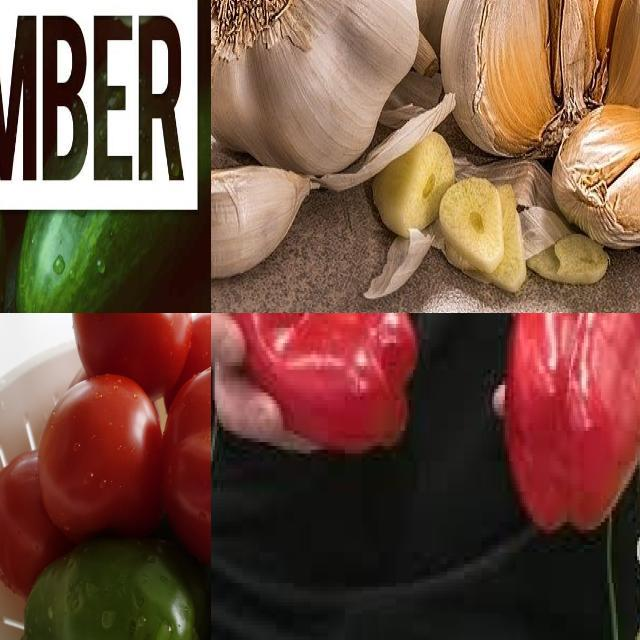bell_pepper: (215, 314, 422, 459), (9, 536, 212, 640)
garlic: (441, 1, 640, 275), (212, 1, 415, 185), (212, 161, 315, 276)
tomato: (35, 374, 162, 534), (1, 452, 75, 590), (168, 359, 212, 575), (70, 314, 195, 387), (192, 314, 212, 388)
